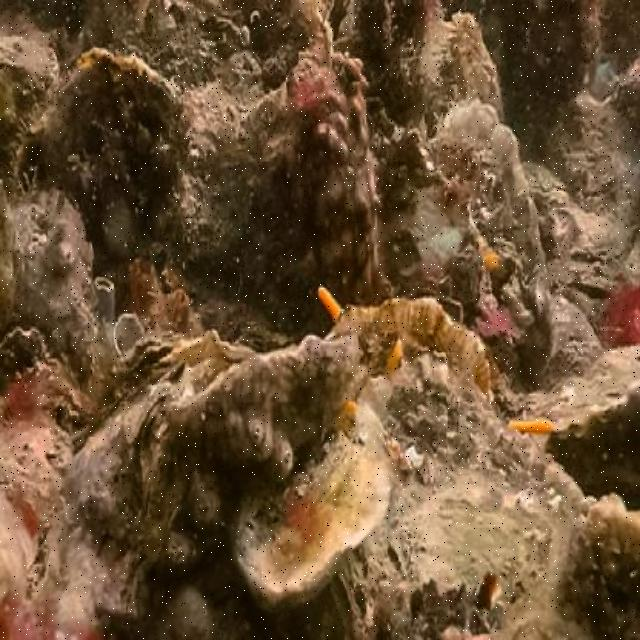Oyster-Closed: (337, 368, 640, 640), (135, 339, 363, 573), (20, 50, 181, 310), (242, 64, 378, 321), (424, 105, 547, 360), (236, 413, 391, 605), (3, 193, 101, 384), (179, 70, 270, 256), (327, 301, 496, 398), (512, 344, 640, 450), (493, 290, 606, 400)
